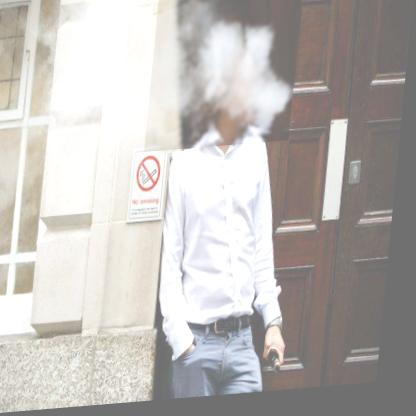smoke: (147, 0, 304, 155)
